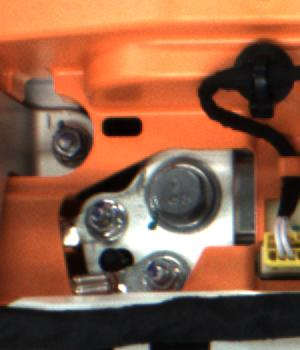nut_b: (146, 158, 225, 235)
screw_s: (140, 246, 186, 292), (78, 193, 121, 236), (47, 125, 92, 164)
